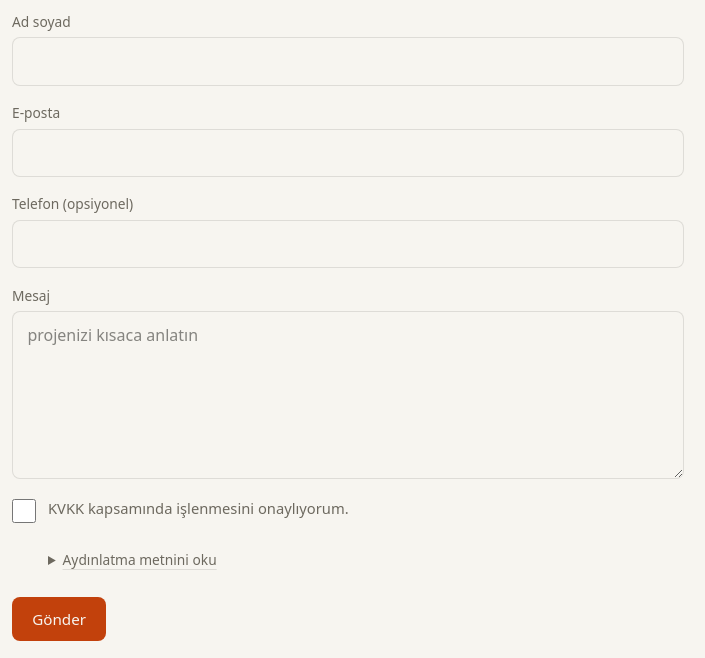
Test: ContactForm › replaces the form with the success panel on a 200
In the field labelled "Ad soyad": {"x": 348, "y": 62} [12,37,684,86], type "Ada Lovelace"
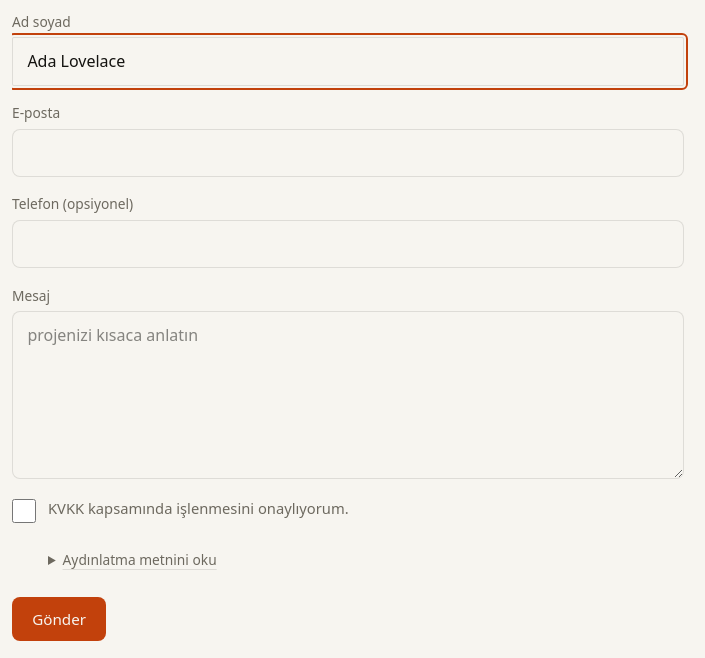
In the field labelled "E-posta": {"x": 348, "y": 153} [12,128,684,177], type "ada@example.com"
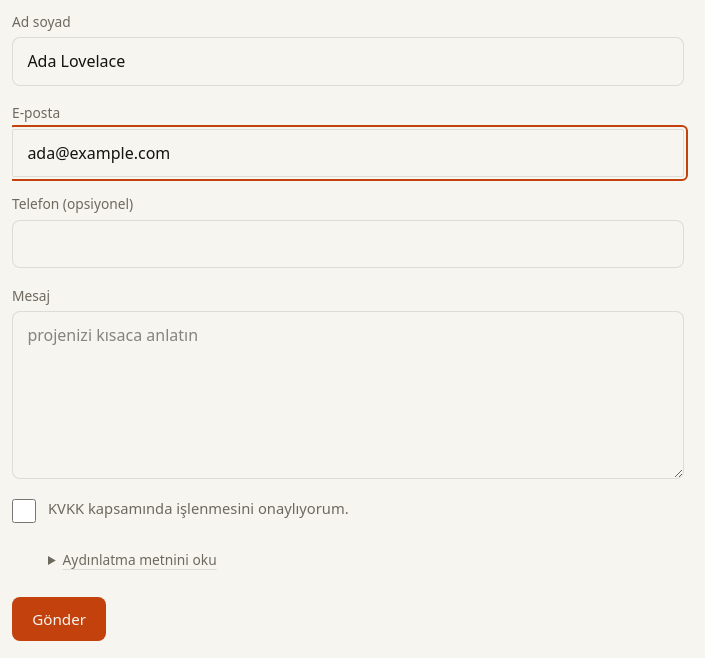
In the text box labelled "Mesaj": {"x": 348, "y": 395} [12,311,684,479], type "Kurumsal web sitesi projesi."
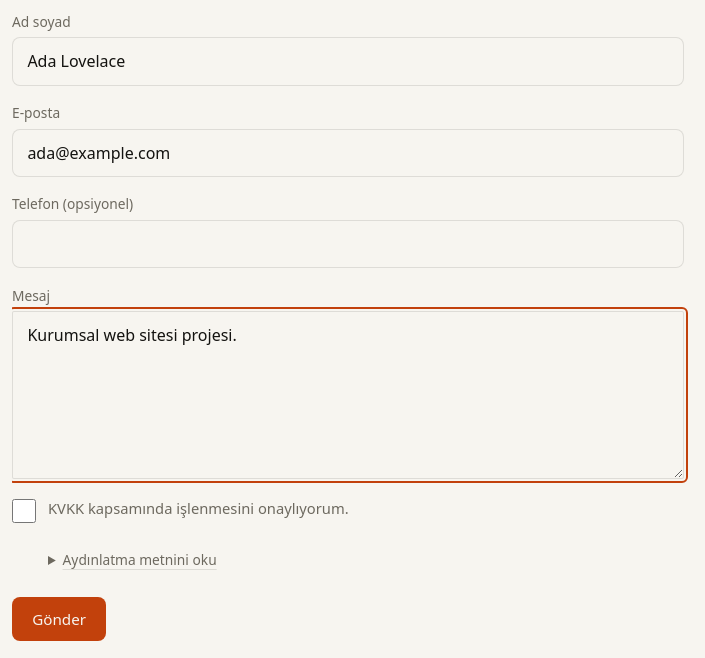
Click the checkbox: {"x": 24, "y": 511} [12,499,36,523]
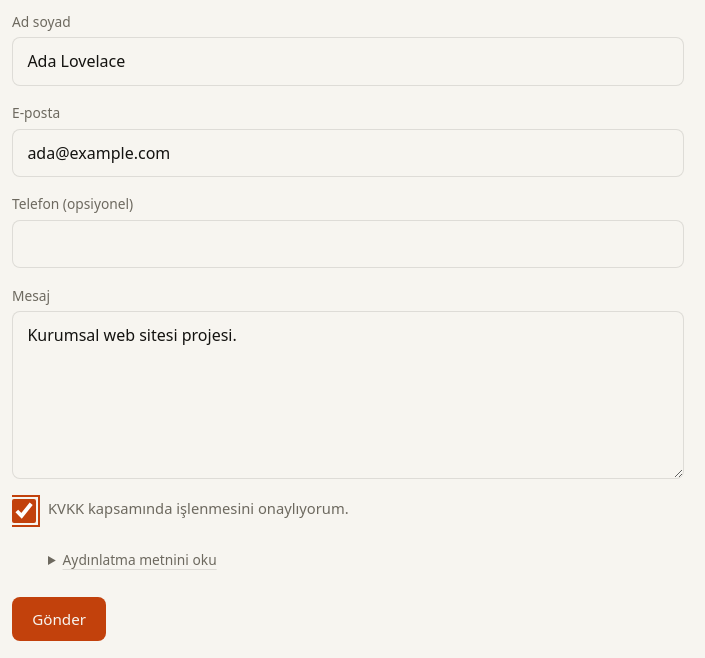
Click the button "Gönder": {"x": 59, "y": 619} [12,597,106,641]
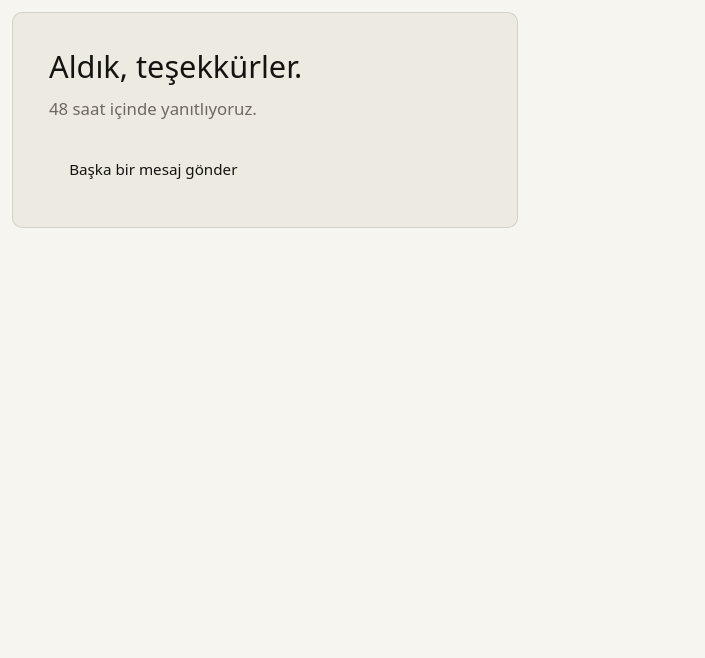
Now the text "Aldık, teşekkürler." is shown, box [49,45,302,87]
